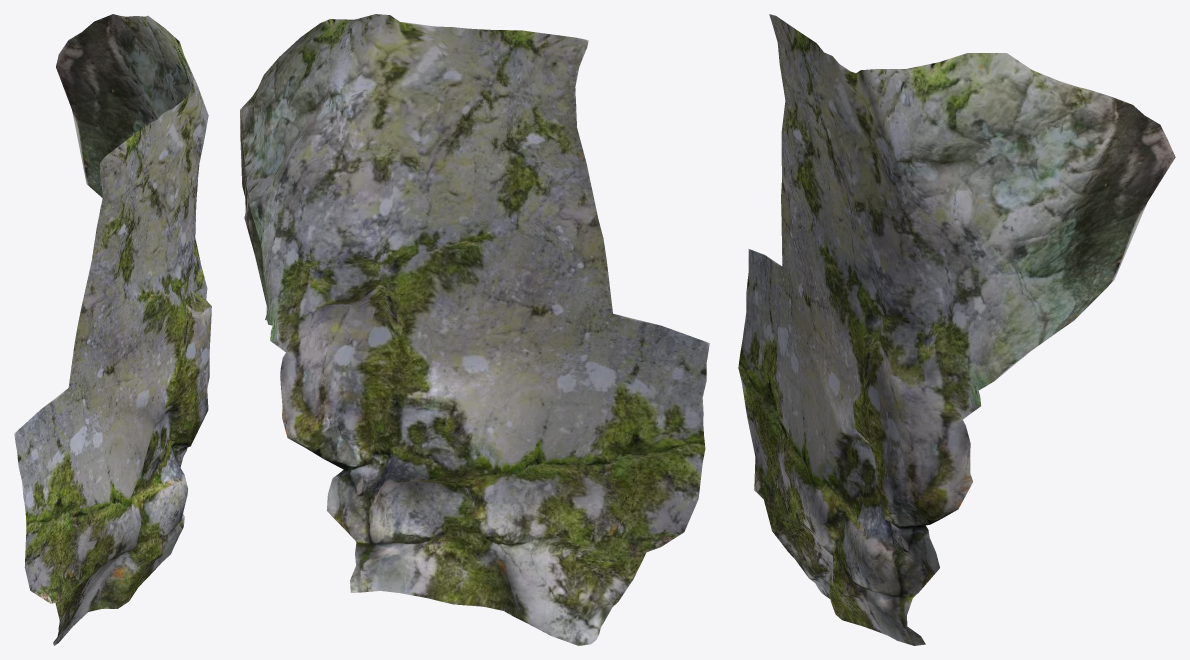
File: Mossy_Formation_2.glb
3 views of the same model, side by side, from view 1: azimuth 30°, elevation 25°; view 2: azimuth 150°, elevation 25°; view 3: azimuth 270°, elevation 25° (orthographic). The views are drawn at different scales.
Parts seen in each view (by area): view 1: Mossy_Formation_2; view 2: Mossy_Formation_2; view 3: Mossy_Formation_2.
Boxes of the visible parts, bbox=[...] form: Mossy_Formation_2: bbox=[14, 14, 211, 645]; Mossy_Formation_2: bbox=[240, 14, 709, 645]; Mossy_Formation_2: bbox=[738, 14, 1175, 645].
Size of the model in its own units: 0.827 by 1.51 by 0.9359.
1 material, 1 textured.
